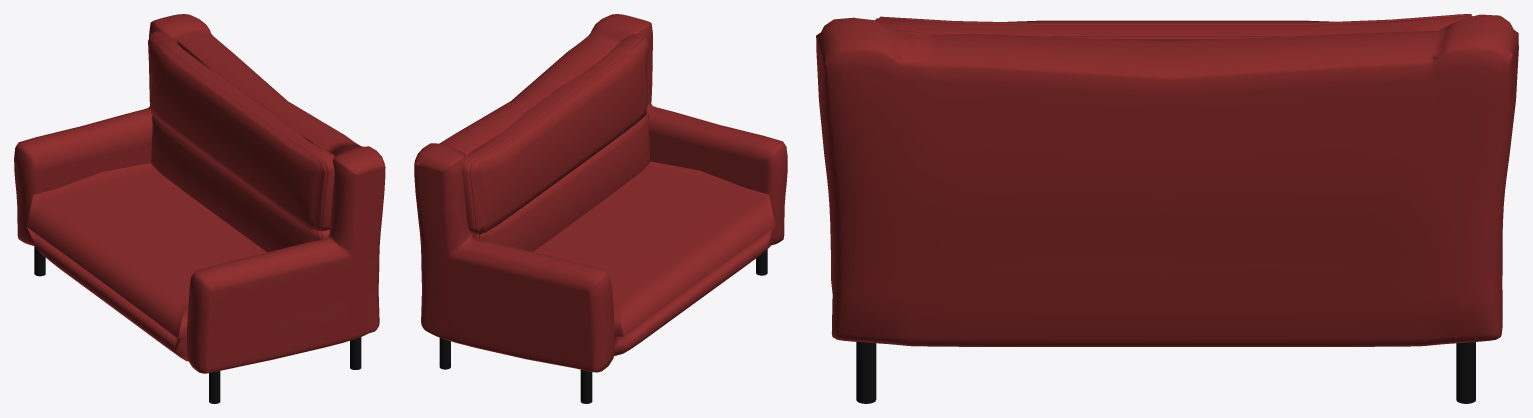
File: Couch.fbx
The picture shows the model from 3 angles, left to right: view 1: azimuth 30°, elevation 25°; view 2: azimuth 150°, elevation 25°; view 3: azimuth 270°, elevation 25°; orthographic projection. The views are drawn at different scales.
Visible parts, largest first — view 1: polySurface1; view 2: polySurface1; view 3: polySurface1.
Part boxes in pixels (<box>): polySurface1: <box>14,14,385,403</box>; polySurface1: <box>414,14,787,403</box>; polySurface1: <box>816,14,1518,403</box>.
Size of the model in its own units: 59.66 by 65.19 by 111.
